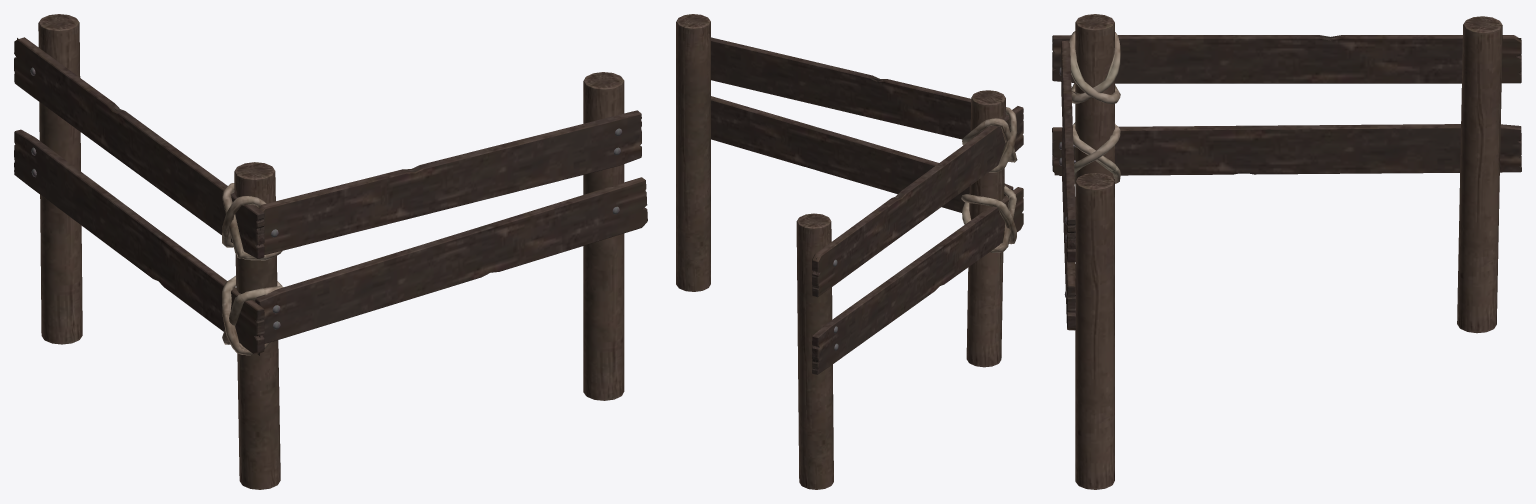
The model's file is Fence03.glb.
3 renders of one model, left to right at view 1: azimuth 30°, elevation 25°; view 2: azimuth 150°, elevation 25°; view 3: azimuth 270°, elevation 25°, orthographic. The views are drawn at different scales.
Visible parts, largest first — view 1: FenceC; view 2: FenceC; view 3: FenceC.
Part boxes in pixels (box(x1,y1,x2,y2)): FenceC: box(14, 14, 647, 489); FenceC: box(676, 14, 1023, 489); FenceC: box(1052, 14, 1521, 489).
Size of the model in its own units: 1.63 by 1.21 by 1.68.
Materials: 2 (2 with a texture image).
